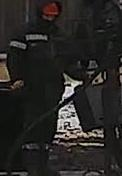gloves: (11, 79, 26, 93), (87, 70, 100, 82)
helmet: (43, 2, 61, 16)
vest: (16, 19, 68, 105)
